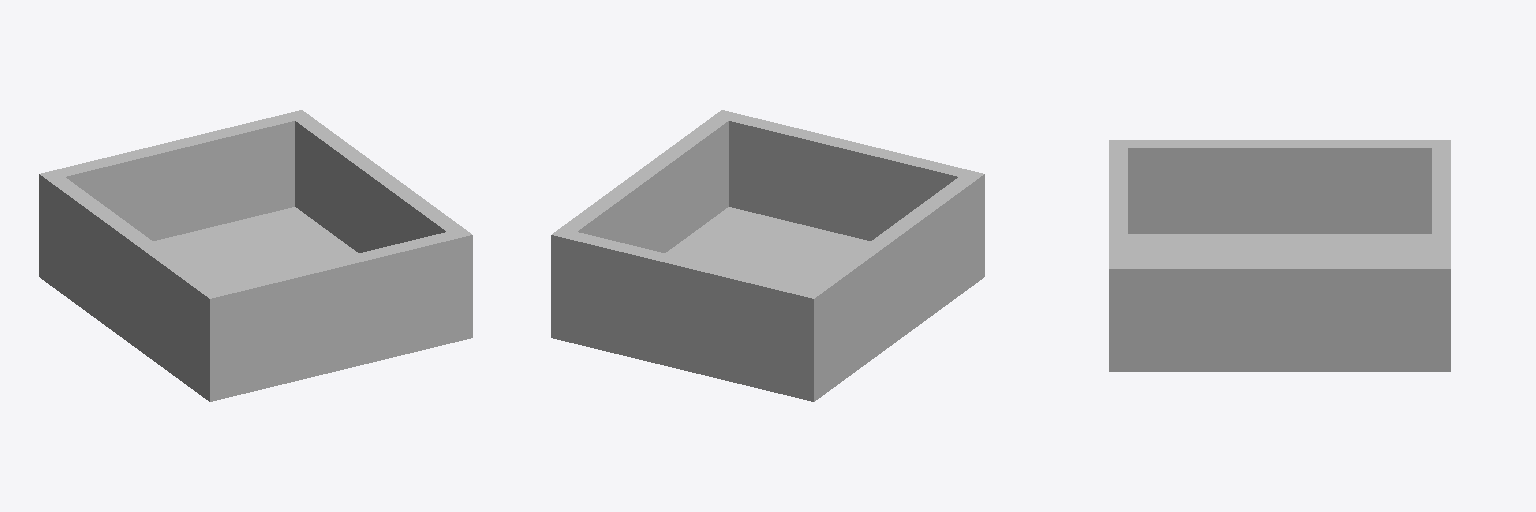
Rendered from drawer.obj.
The picture shows the model from 3 angles: view 1: azimuth 30°, elevation 25°; view 2: azimuth 150°, elevation 25°; view 3: azimuth 270°, elevation 25°; orthographic projection.
Visible parts, largest first — view 1: Incredible_Jofo(1); view 2: Incredible_Jofo(1); view 3: Incredible_Jofo(1).
Part boxes in pixels (bbox=[...]): Incredible_Jofo(1): bbox=[39, 110, 472, 401]; Incredible_Jofo(1): bbox=[551, 110, 984, 401]; Incredible_Jofo(1): bbox=[1109, 140, 1450, 371].
Size of the model in its own units: 0.16 by 0.06 by 0.18.